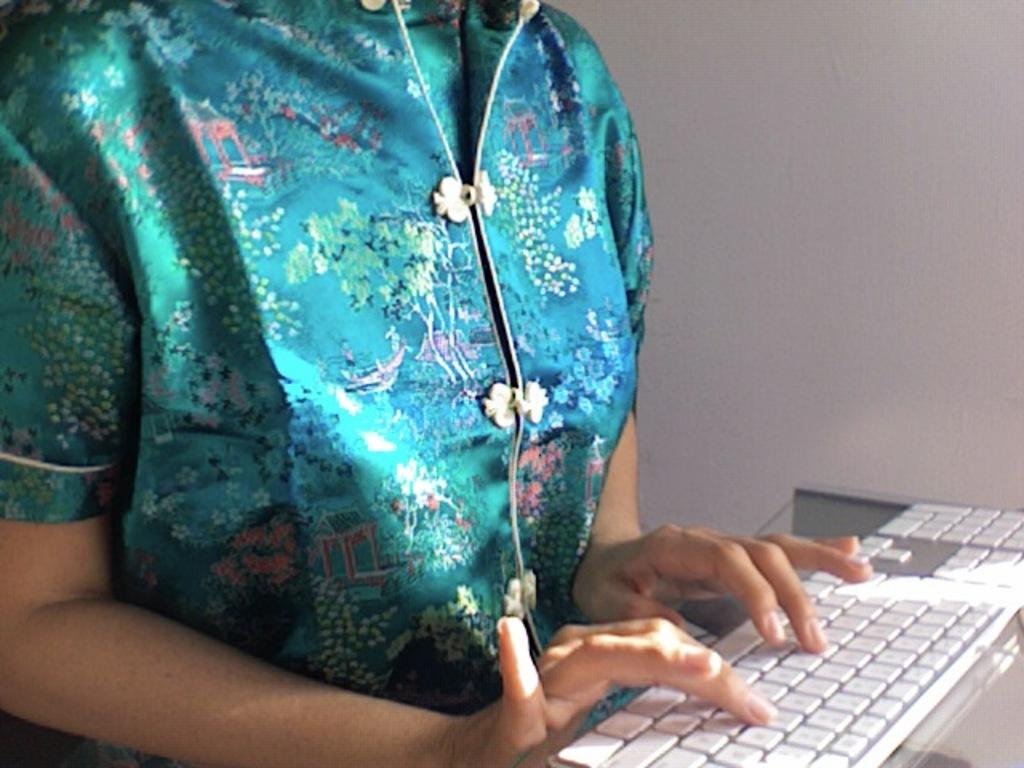Computer-keyboard: (546, 496, 1022, 766)
